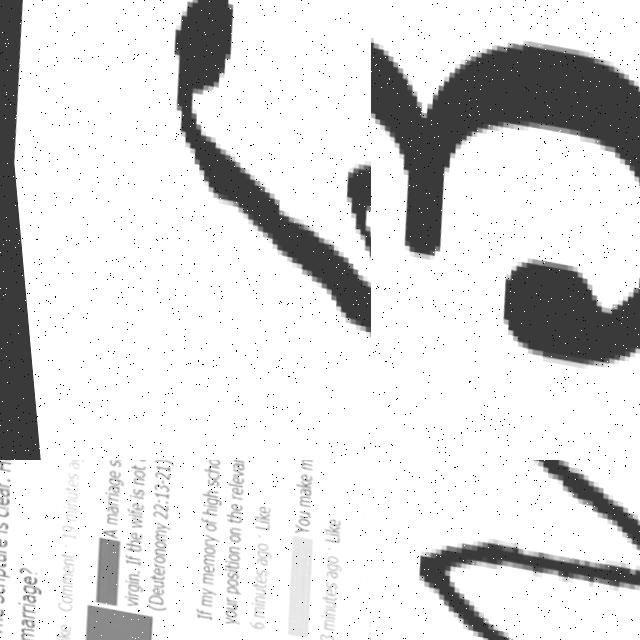2: (236, 615, 256, 626)
3: (371, 0, 640, 392)
5: (51, 520, 70, 531)
H: (171, 0, 371, 345)
M: (371, 460, 640, 640)
